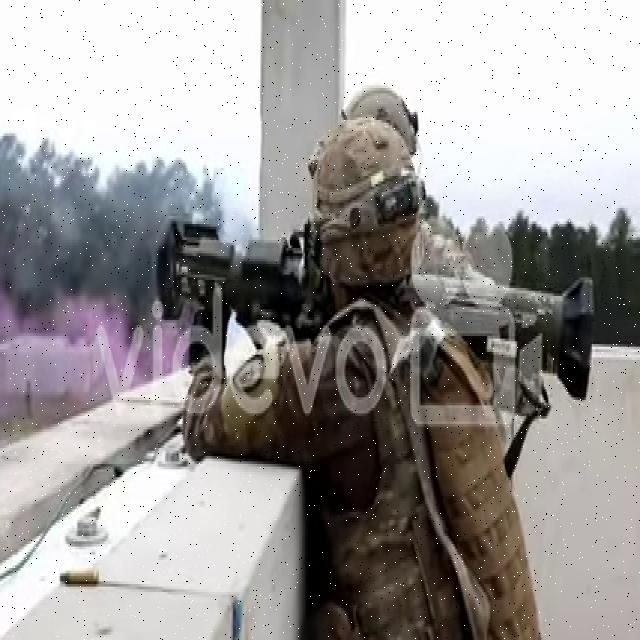bazooka: (151, 207, 601, 414)
